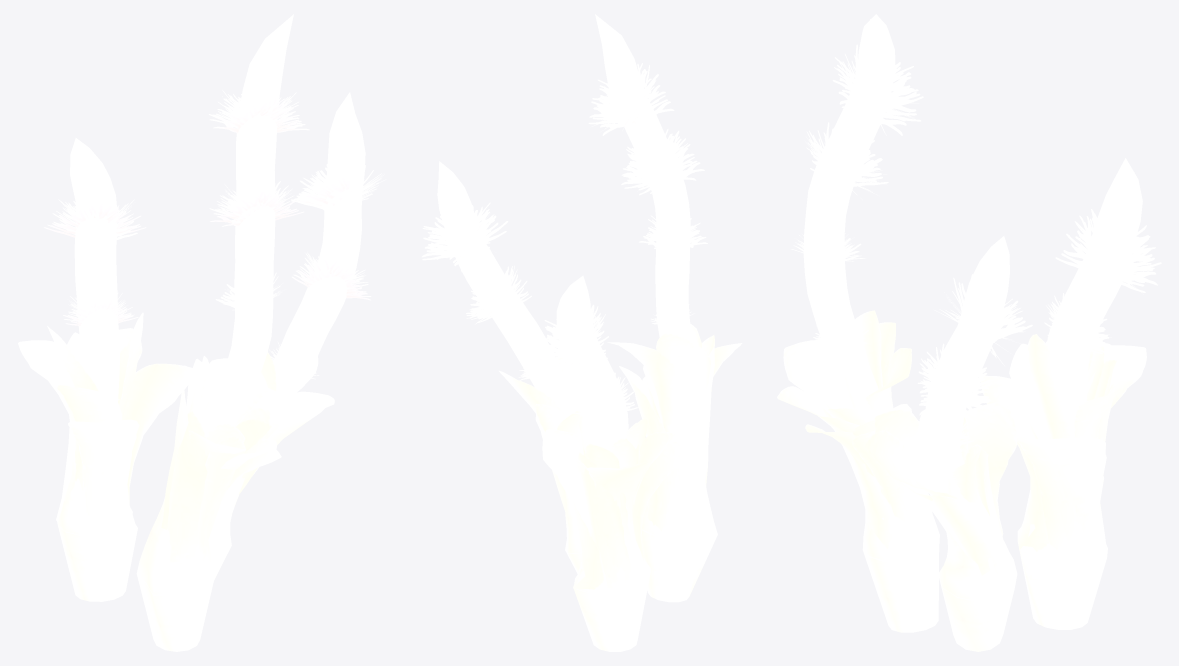
The picture shows the model from 3 angles, left to right: view 1: azimuth 30°, elevation 25°; view 2: azimuth 150°, elevation 25°; view 3: azimuth 270°, elevation 25°; orthographic projection. The views are drawn at different scales.
Parts seen in each view (by area): view 1: SM_HorseHair_01_LOD0; view 2: SM_HorseHair_01_LOD0; view 3: SM_HorseHair_01_LOD0.
Boxes of the visible parts, x1,y1,x2,y2 form: SM_HorseHair_01_LOD0: (18,14,386,651); SM_HorseHair_01_LOD0: (422,14,742,651); SM_HorseHair_01_LOD0: (777,14,1161,651).
Bounding box in the file's own units: 0.5698 × 1.1 × 0.5852.
Materials: 1 (1 with a texture image).
